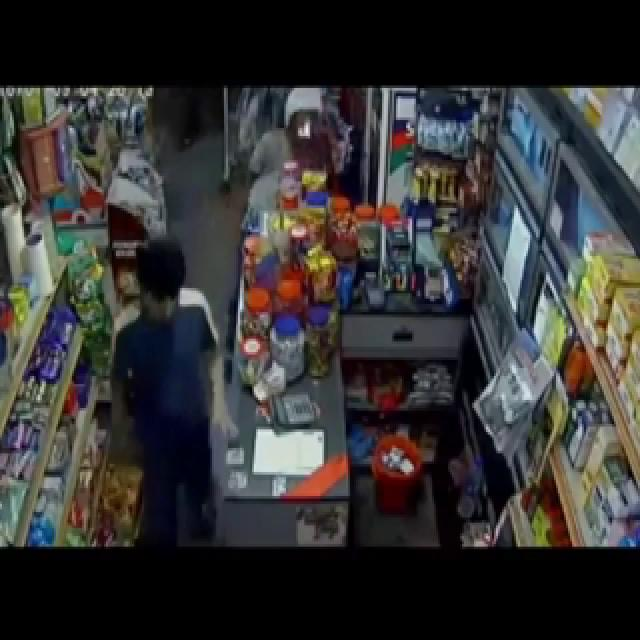robbery: (79, 159, 265, 540)
